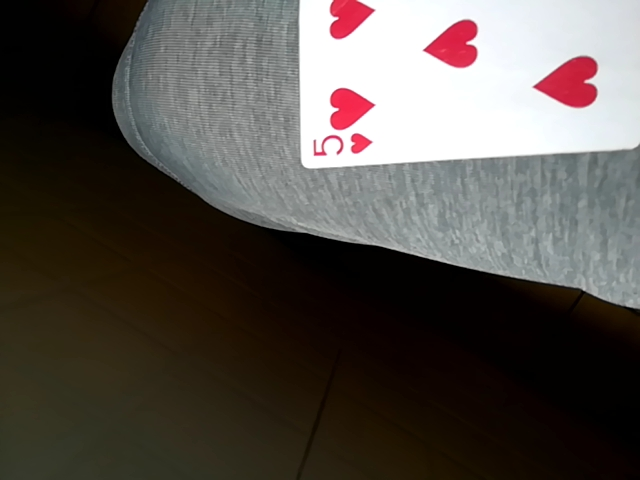hx 5: (294, 0, 637, 169)
